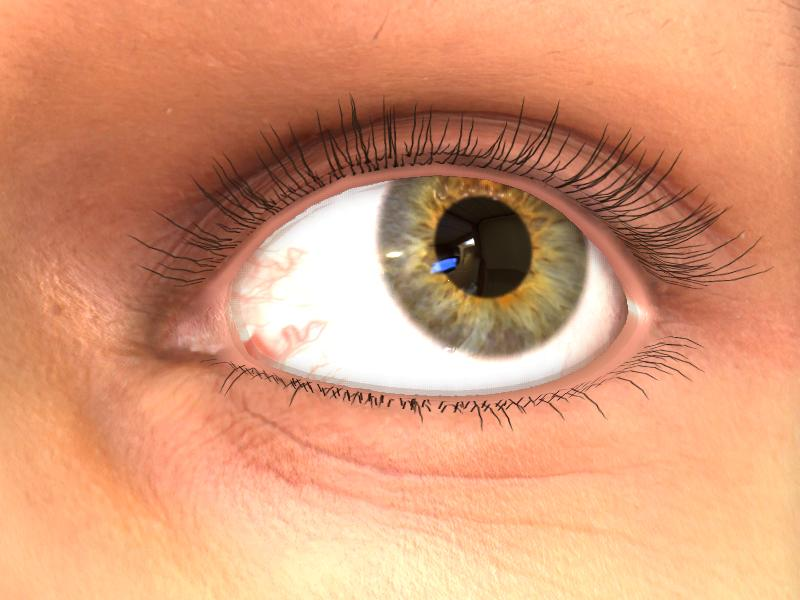eye: (375, 174, 589, 355)
